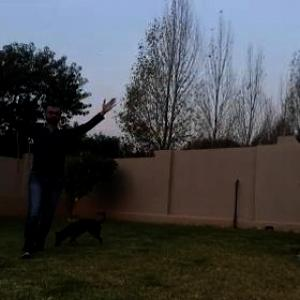takeoff: (0, 94, 122, 267)
